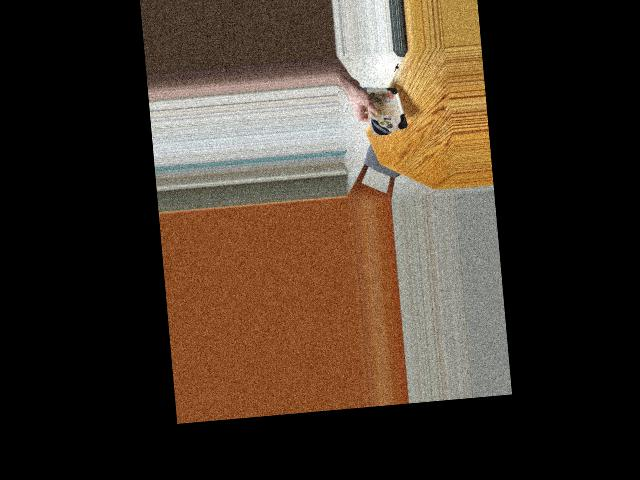cheese: (364, 78, 404, 139)
